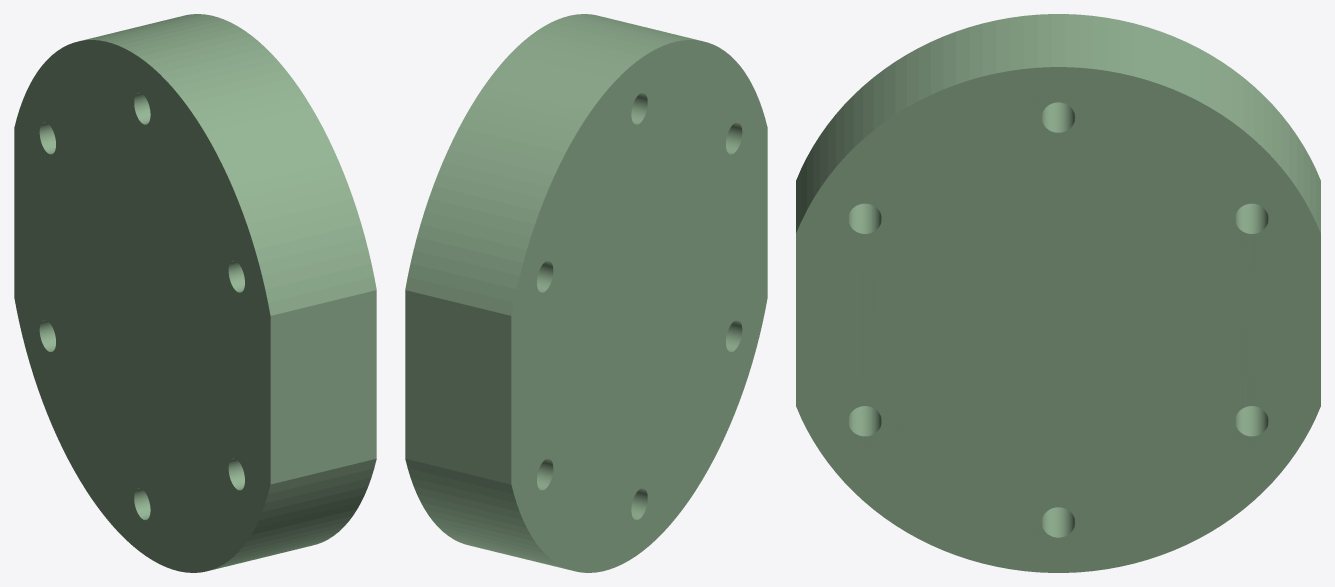
Rendered from gpp5010nc_irb6640_Adapter.dae.
3 renders of one model, left to right at view 1: azimuth 30°, elevation 25°; view 2: azimuth 150°, elevation 25°; view 3: azimuth 270°, elevation 25°, orthographic. The views are drawn at different scales.
Parts seen in each view (by area): view 1: node0; view 2: node0; view 3: node0.
Part boxes in pixels (bbox=[...]): node0: bbox=[14, 14, 376, 572]; node0: bbox=[405, 14, 767, 572]; node0: bbox=[796, 14, 1320, 572].
Bounding box in the file's own units: 0.045 × 0.188 × 0.1999.
